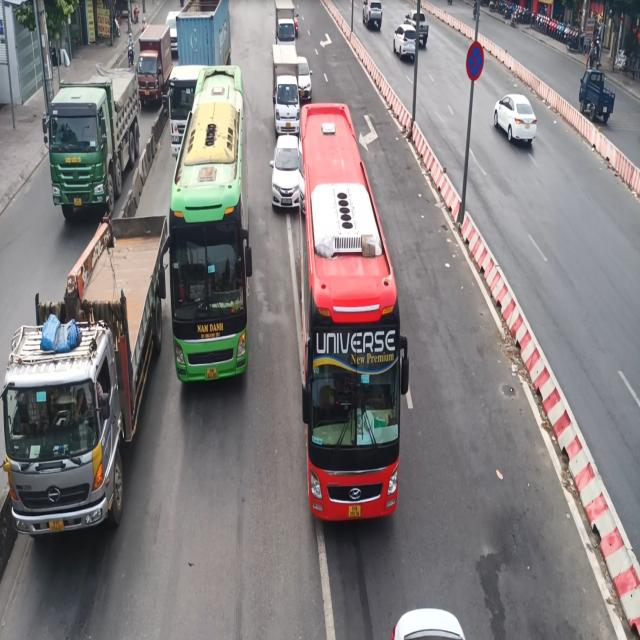bus: (296, 110, 406, 528), (169, 59, 257, 410)
truck: (0, 190, 168, 550), (47, 55, 141, 211)
